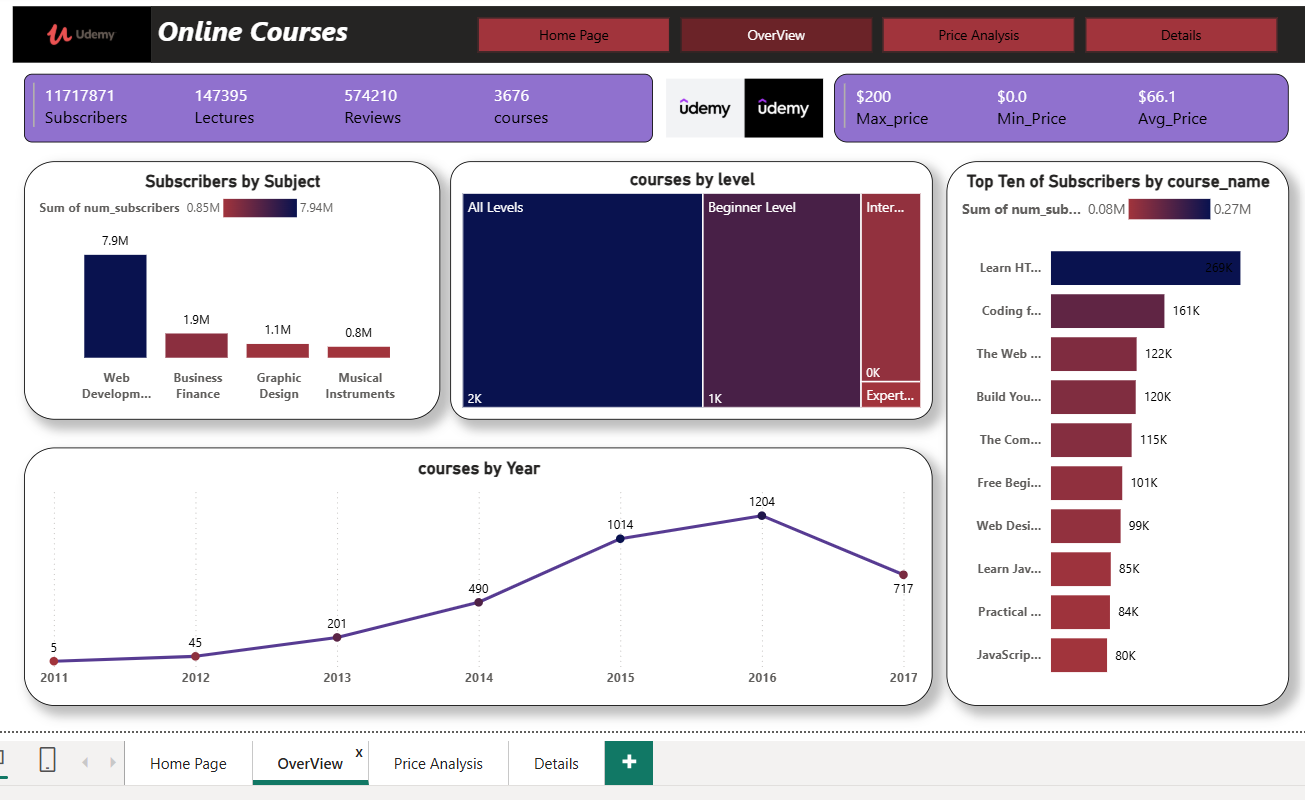

The page's visual inventory and layout, read from the dashboard file:
{"tool":"powerbi","page":{"name":"OverView","canvas":[1280,720],"ordinal":1},"visuals":[{"type":"image","box":[13.5,11,135.7,55],"z":0},{"type":"textbox","box":[149.4,10.8,1130.1,55.4],"z":1000},{"type":"multiRowCard","fields":{"Values":["udemy.Subscribers","udemy.Lectures","udemy.Reviews","udemy.courses"]},"box":[24.5,77,615.1,67.3],"z":2000},{"type":"multiRowCard","fields":{"Values":["udemy.Max_price","udemy.Min_Price","udemy.Avg_Price"]},"box":[816.9,77,445.1,67.3],"z":3000},{"type":"columnChart","title":"Subscribers by Subject","fields":{"Y":["Sum(udemy.num_subscribers)"],"Category":["udemy.subject"]},"box":[24.1,162.7,407.2,253],"z":4000},{"type":"treemap","fields":{"Group":["udemy.subject","udemy.level"],"Values":["udemy.courses"]},"box":[441,162.7,472.3,253],"z":5000},{"type":"lineChart","fields":{"Y":["udemy.courses"],"Category":["udemy.subject","udemy.published_timestamp.Variation.Date Hierarchy.Year","udemy.published_timestamp.Variation.Date Hierarchy.Month"]},"box":[24.1,442.2,889.2,253],"z":6000},{"type":"barChart","title":"Top Ten of Subscribers by course_name","fields":{"Y":["udemy.Subscribers"],"Category":["udemy.course_name"]},"box":[926.5,162.7,334.9,532.5],"z":7000},{"type":"image","box":[631,77,196.9,67.3],"z":8000},{"type":"pageNavigator","box":[468.3,22,785.1,34.2],"z":9000}]}

Visuals, with their boxes on the page's 1280x720 design canvas (x1, y1, x2, y2). These are canvas units, not pixel positions in the 1305x800 screenshot, which may show the page scaled, cropped or inside an application window:
image: {"left": 14, "top": 11, "right": 149, "bottom": 66}
textbox: {"left": 149, "top": 11, "right": 1280, "bottom": 66}
multiRowCard - udemy.Subscribers x udemy.Lectures: {"left": 24, "top": 77, "right": 640, "bottom": 144}
multiRowCard - udemy.Max_price x udemy.Min_Price: {"left": 817, "top": 77, "right": 1262, "bottom": 144}
"Subscribers by Subject" columnChart: {"left": 24, "top": 163, "right": 431, "bottom": 416}
treemap - udemy.subject x udemy.level: {"left": 441, "top": 163, "right": 913, "bottom": 416}
lineChart - udemy.courses x udemy.subject: {"left": 24, "top": 442, "right": 913, "bottom": 695}
"Top Ten of Subscribers by course_name" barChart: {"left": 926, "top": 163, "right": 1261, "bottom": 695}
image: {"left": 631, "top": 77, "right": 828, "bottom": 144}
pageNavigator: {"left": 468, "top": 22, "right": 1253, "bottom": 56}
